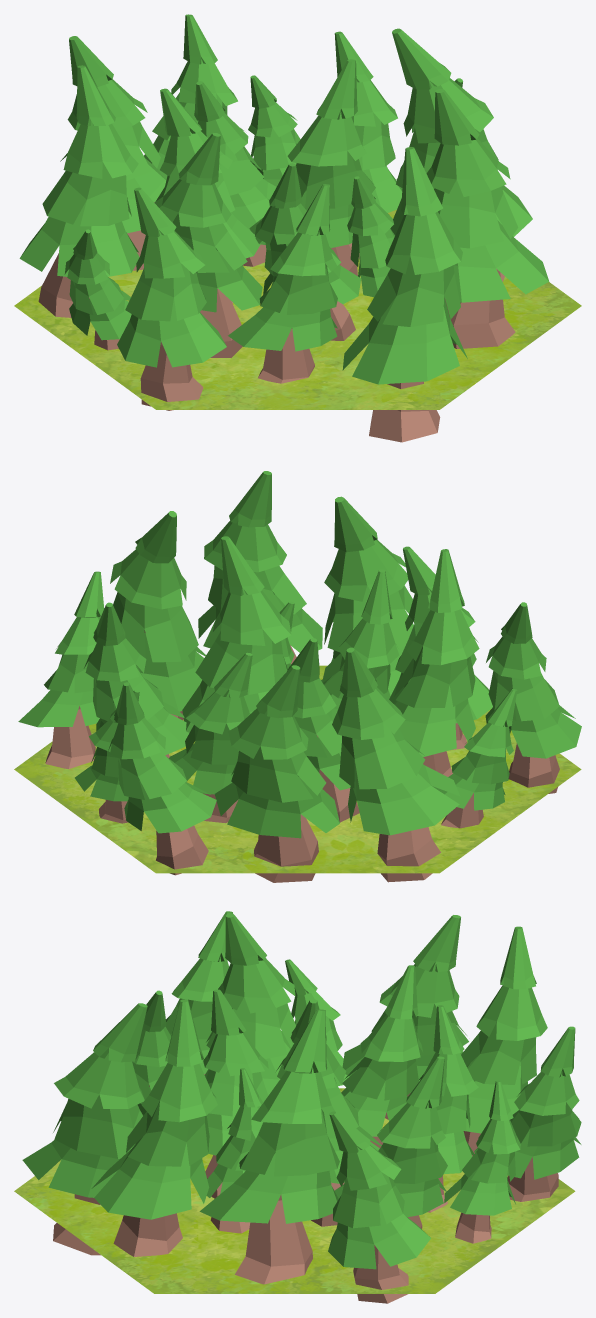
Rendered from Hex_flat_BigForrest.fbx.
The picture shows the model from 3 angles, top to bottom: view 1: azimuth 30°, elevation 25°; view 2: azimuth 150°, elevation 25°; view 3: azimuth 270°, elevation 25°; orthographic projection.
Parts seen in each view (by area): view 1: Hex_flat_BigForrest; view 2: Hex_flat_BigForrest; view 3: Hex_flat_BigForrest.
Part boxes in pixels (left/top/right/bottom): Hex_flat_BigForrest: left=14, top=14, right=581, bottom=442; Hex_flat_BigForrest: left=14, top=471, right=581, bottom=882; Hex_flat_BigForrest: left=14, top=911, right=581, bottom=1303.
Bounding box in the file's own units: 0.919 × 0.5659 × 1.01.
